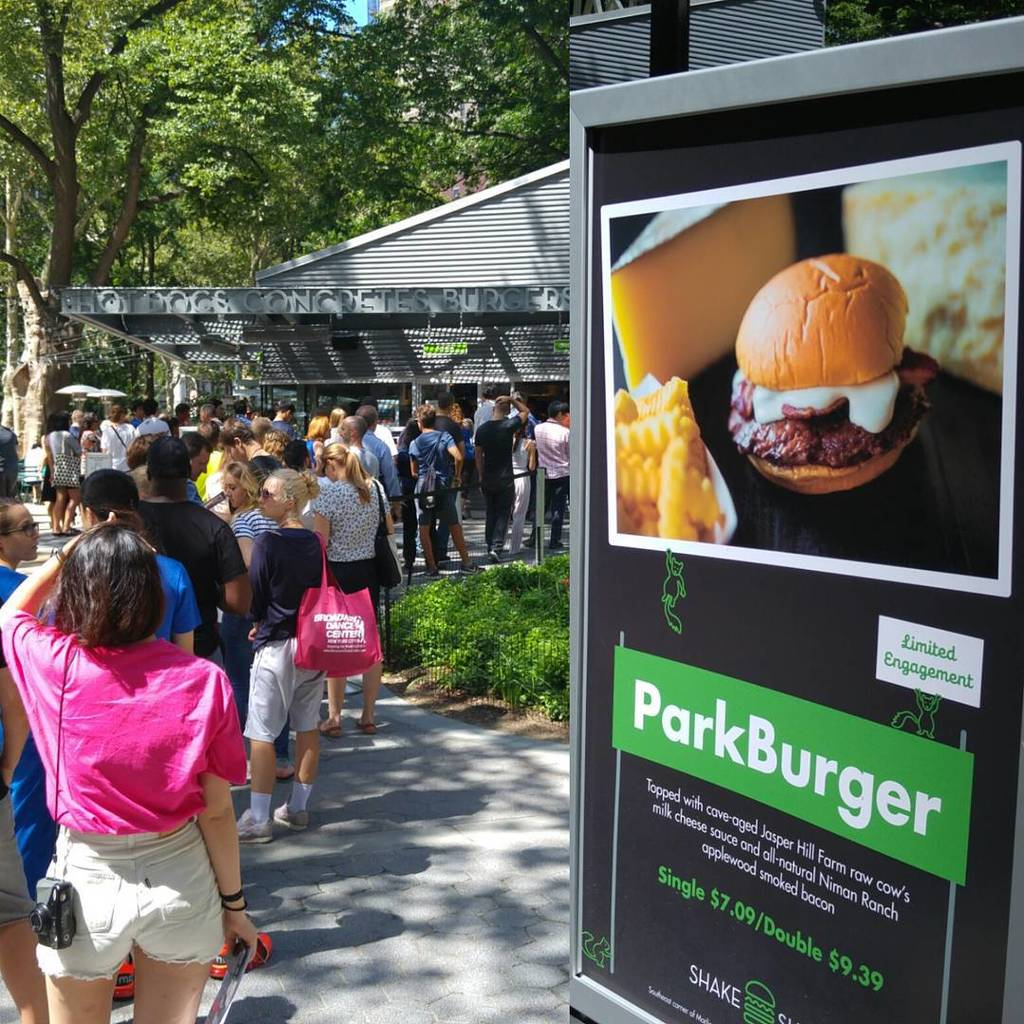Hamburger: (729, 255, 943, 498)
